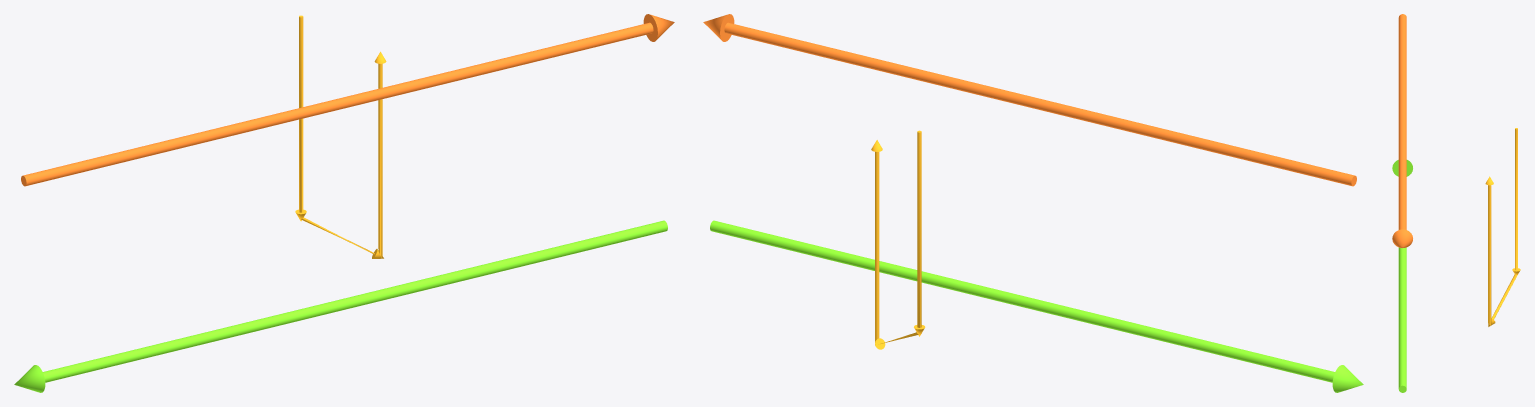
Rendered from heat_recovery_system_flow.glb.
3 views of the same model, side by side, from view 1: azimuth 30°, elevation 25°; view 2: azimuth 150°, elevation 25°; view 3: azimuth 270°, elevation 25° (orthographic). The views are drawn at different scales.
Visible parts, largest first — view 1: exhaust_air, supply_air, glycol.001; view 2: exhaust_air, supply_air, glycol.001; view 3: exhaust_air, supply_air, glycol.001.
Boxes of the visible parts, box(x1,y1,x2,y2) form: exhaust_air: box(21, 14, 674, 186); supply_air: box(14, 220, 667, 392); glycol.001: box(295, 15, 386, 258); exhaust_air: box(703, 14, 1356, 186); supply_air: box(710, 220, 1363, 392); glycol.001: box(871, 130, 925, 349); exhaust_air: box(1392, 14, 1412, 248); supply_air: box(1392, 160, 1412, 392); glycol.001: box(1485, 128, 1520, 326).
Size of the model in its own units: 4.12 by 1.45 by 0.9592.
